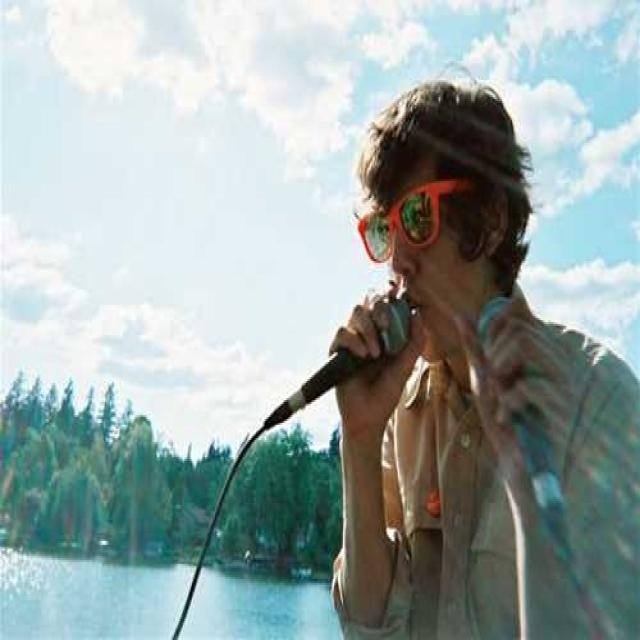microphone: (464, 290, 590, 537), (255, 270, 423, 453)
